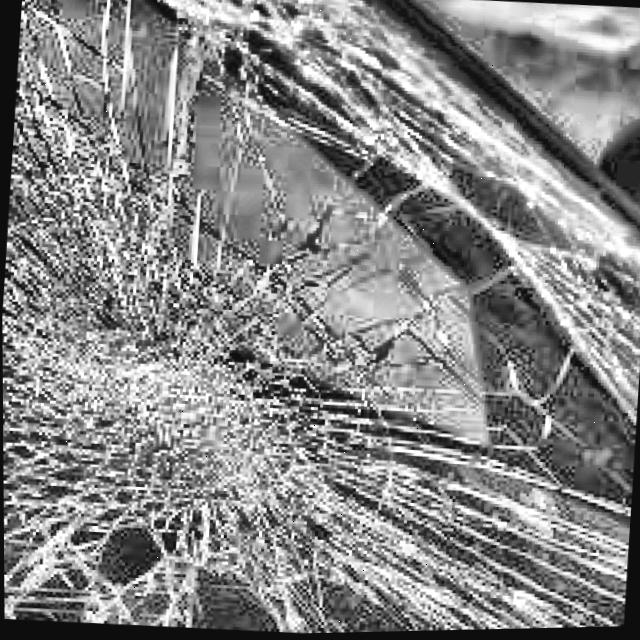glass_shatter: (6, 263, 336, 630), (181, 0, 488, 194)
